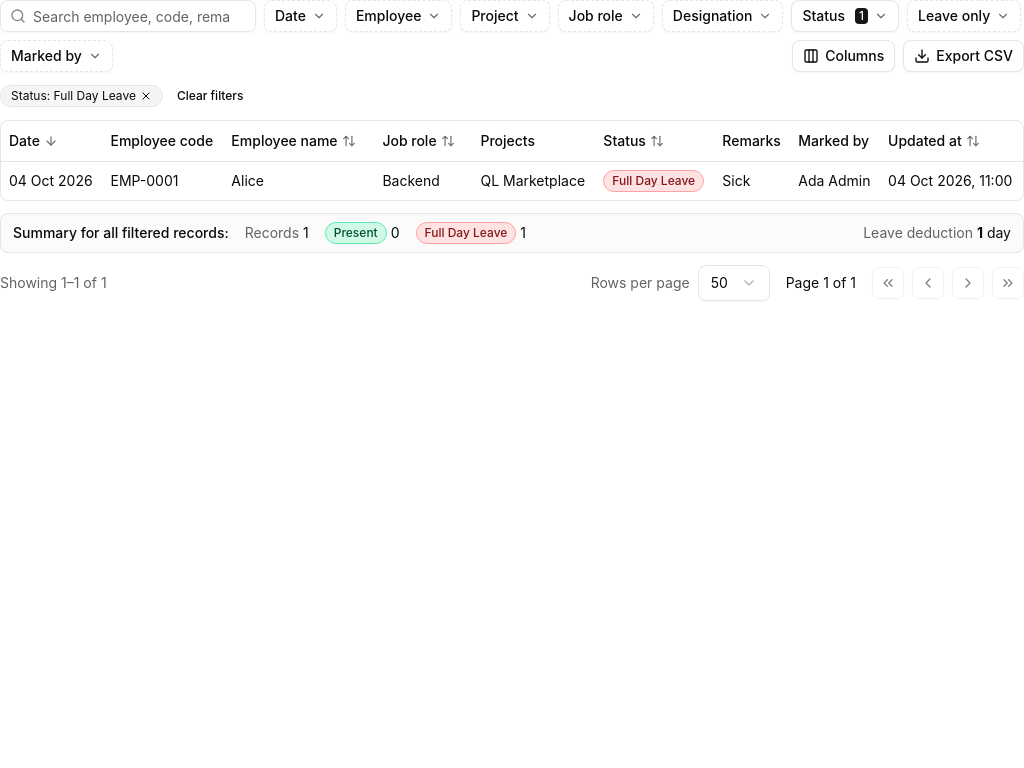
Scenario: attendance server views › List view renders rows, filters with presets and the summary bar
Expected: the cell "QL Marketplace" is shown, [472,161,595,200]
Expected: the cell "Ada Admin" is shown, [790,161,880,200]
What coordinates should you click on to do the following:
click the 1st button "Date"
I would click on:
 (300, 16)
Its box is [264,0,337,32].
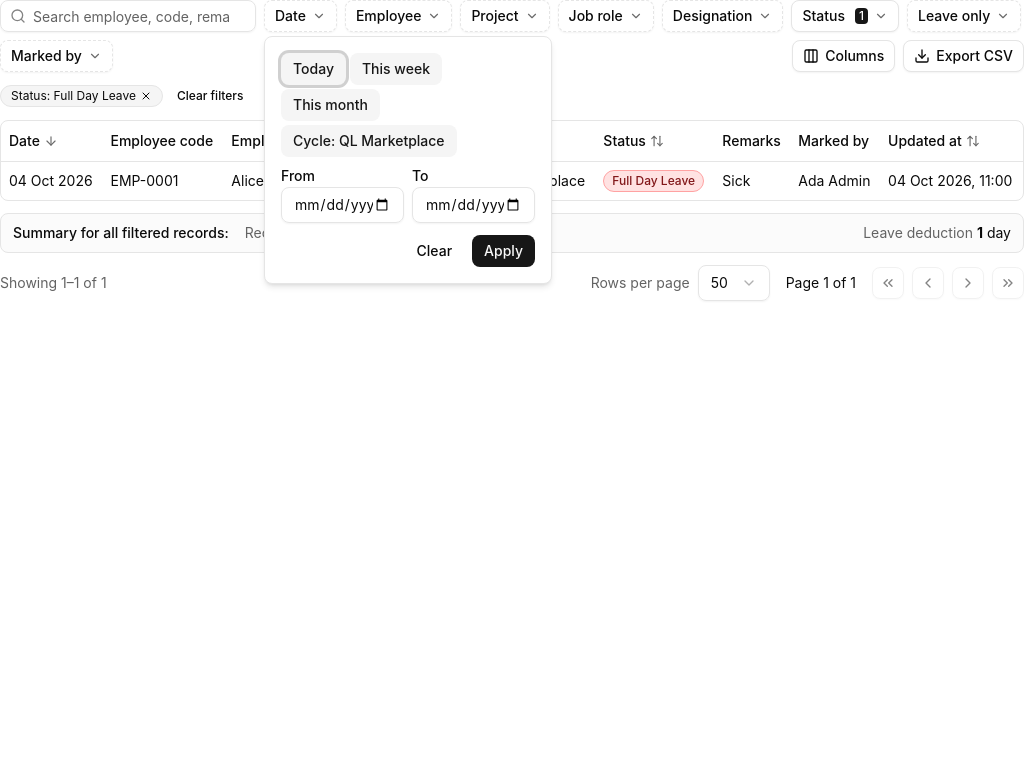
Now the button "Cycle: QL Marketplace" is shown, box [281,125,457,157]
